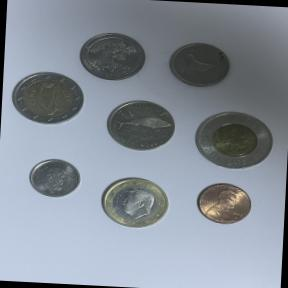1 Euro-B: (93, 170, 178, 234)
2 Euro-B: (8, 68, 86, 130)
Canada-10cent-B: (22, 153, 84, 204)
Canada-2Dollar-B: (186, 101, 280, 178)
Croatia-2Kune-B: (100, 94, 180, 159)
US-1cent-B: (189, 178, 258, 231)
US-25cent-B: (76, 30, 152, 86)
